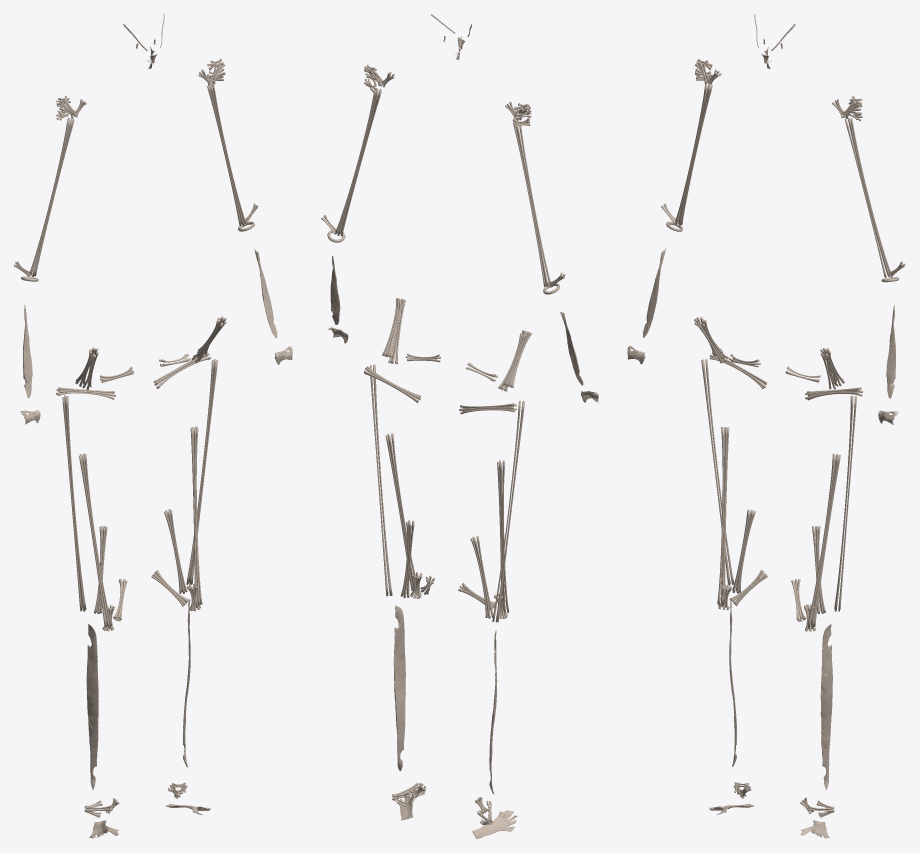
File: ligaments.glb
3 views of the same model, side by side, from view 1: azimuth 30°, elevation 25°; view 2: azimuth 150°, elevation 25°; view 3: azimuth 330°, elevation 25° (orthographic).
Parts seen in each view (by area): view 1: membrane-interosseuse-jambe-d, lle-d, lle-g, lca-d, lca-g, lliu-d, lliu-g, membrane-interosseuse-avant-bras-d; view 2: membrane-interosseuse-jambe-g, lle-g, lle-d, lliu-d, lliu-g, lca-d, lca-g, plantaire-long-d; view 3: membrane-interosseuse-jambe-g, lca-d, lle-g, lca-g, lle-d, lliu-g, lliu-d, membrane-interosseuse-avant-bras-g, lcp-d.
Boxes of the visible parts, bbox=[...] form: membrane-interosseuse-jambe-d: bbox=[86, 624, 98, 789]; lle-d: bbox=[62, 395, 86, 611]; lle-g: bbox=[186, 359, 217, 584]; lca-d: bbox=[79, 453, 111, 627]; lca-g: bbox=[190, 426, 202, 605]; lliu-d: bbox=[29, 118, 74, 276]; lliu-g: bbox=[207, 84, 246, 226]; membrane-interosseuse-avant-bras-d: bbox=[23, 304, 32, 397]; membrane-interosseuse-jambe-g: bbox=[393, 605, 405, 771]; lle-g: bbox=[369, 364, 392, 596]; lle-d: bbox=[492, 401, 524, 622]; lliu-d: bbox=[513, 124, 551, 286]; lliu-g: bbox=[335, 88, 381, 236]; lca-d: bbox=[497, 460, 508, 612]; lca-g: bbox=[385, 433, 415, 591]; plantaire-long-d: bbox=[472, 810, 516, 838]; membrane-interosseuse-jambe-g: bbox=[820, 624, 832, 789]; lca-d: bbox=[717, 427, 729, 604]; lle-g: bbox=[834, 395, 857, 611]; lca-g: bbox=[807, 453, 840, 627]; lle-d: bbox=[701, 359, 734, 585]; lliu-g: bbox=[844, 118, 891, 277]; lliu-d: bbox=[675, 84, 712, 226]; membrane-interosseuse-avant-bras-g: bbox=[886, 305, 896, 398]; lcp-d: bbox=[732, 509, 755, 593].
Bounding box in the file's own units: 0.5397 × 1.53 × 0.1008.
